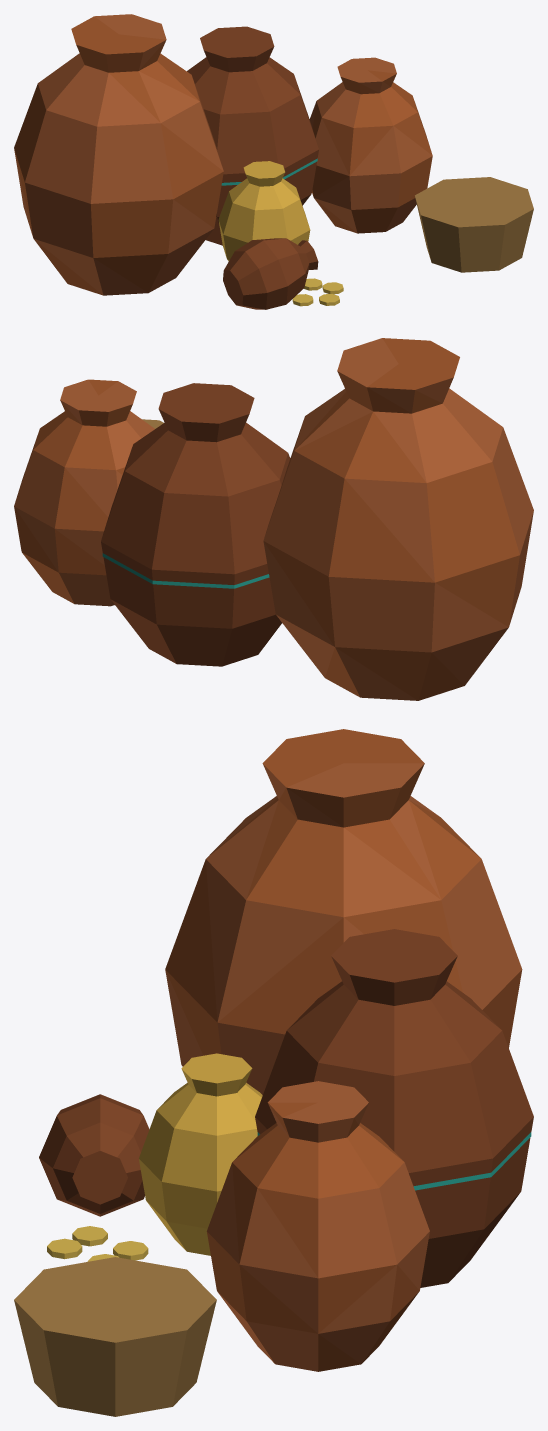
The model's file is kit-egypt-decor-2.glb.
3 views of the same model, one above another, from view 1: azimuth 30°, elevation 25°; view 2: azimuth 150°, elevation 25°; view 3: azimuth 270°, elevation 25° (orthographic). The views are drawn at different scales.
Parts seen in each view (by area): view 1: kit-egypt-decor-2; view 2: kit-egypt-decor-2; view 3: kit-egypt-decor-2.
Part boxes in pixels (x1,y1,x2,y2): kit-egypt-decor-2: (14, 14, 533, 309); kit-egypt-decor-2: (14, 338, 533, 700); kit-egypt-decor-2: (14, 729, 533, 1416).
Size of the model in its own units: 1.62 by 0.848 by 1.03.
